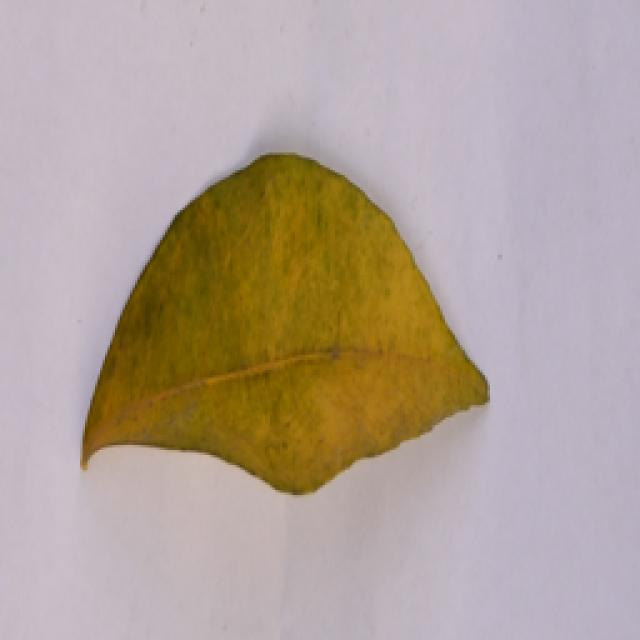canker: (69, 146, 497, 497)
